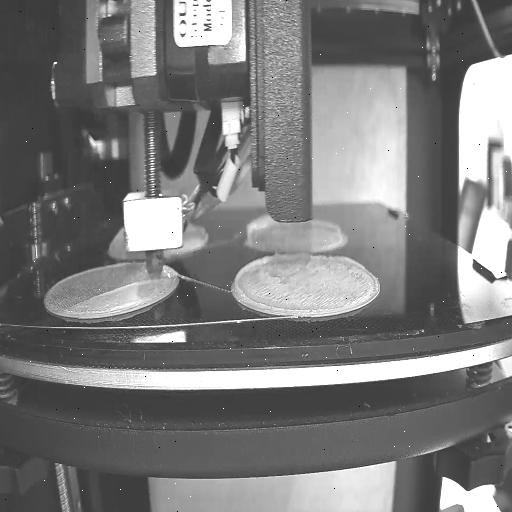over_extrusion: (234, 252, 314, 313), (92, 278, 156, 300), (244, 214, 270, 240), (331, 252, 365, 270), (312, 216, 342, 234)
